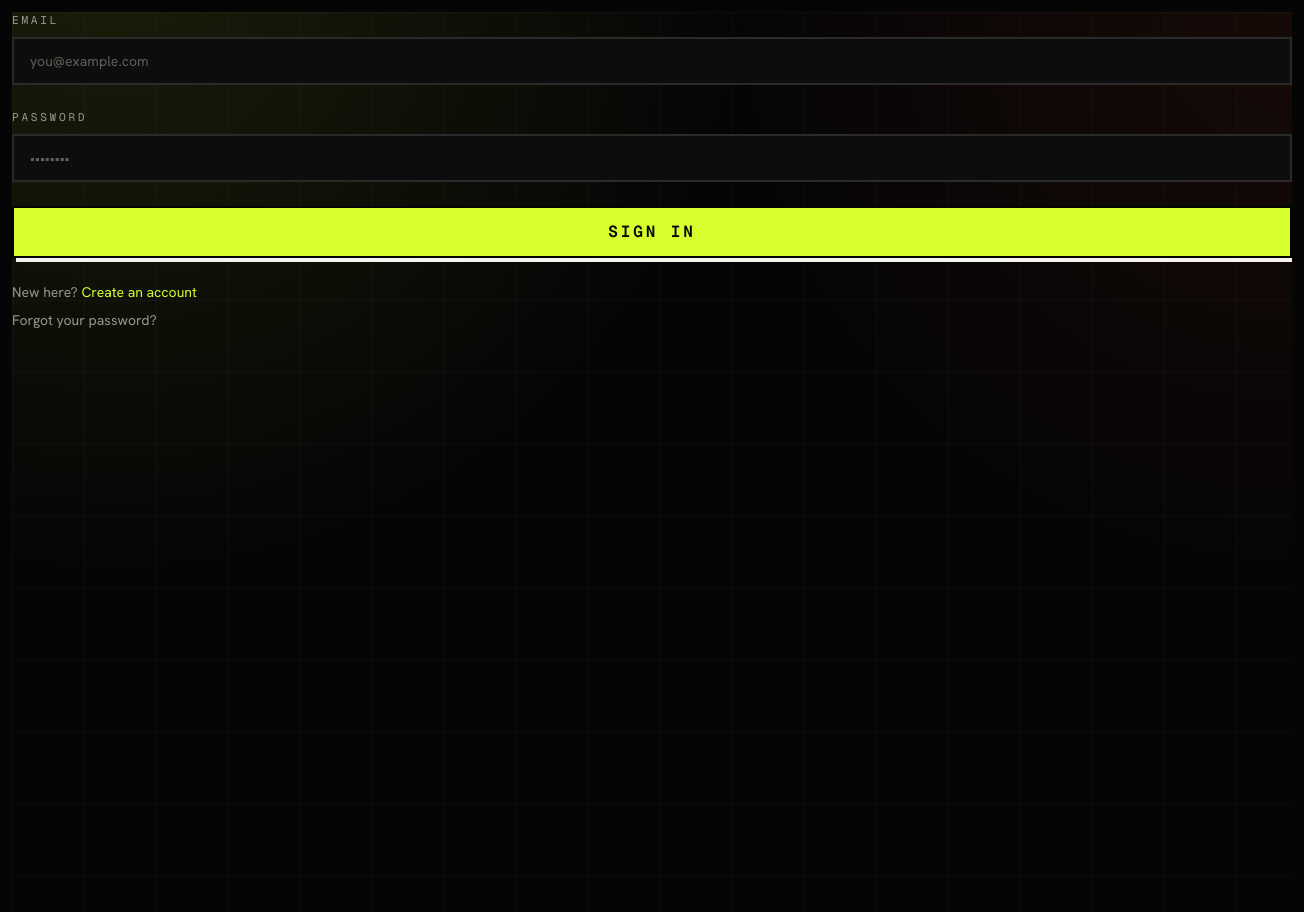
AuthForm (sign-in) › surfaces an accessible error on failure
Step 1. Type "a@b.com" into the field labelled "Email" → [652, 61], box [12,37,1292,85]
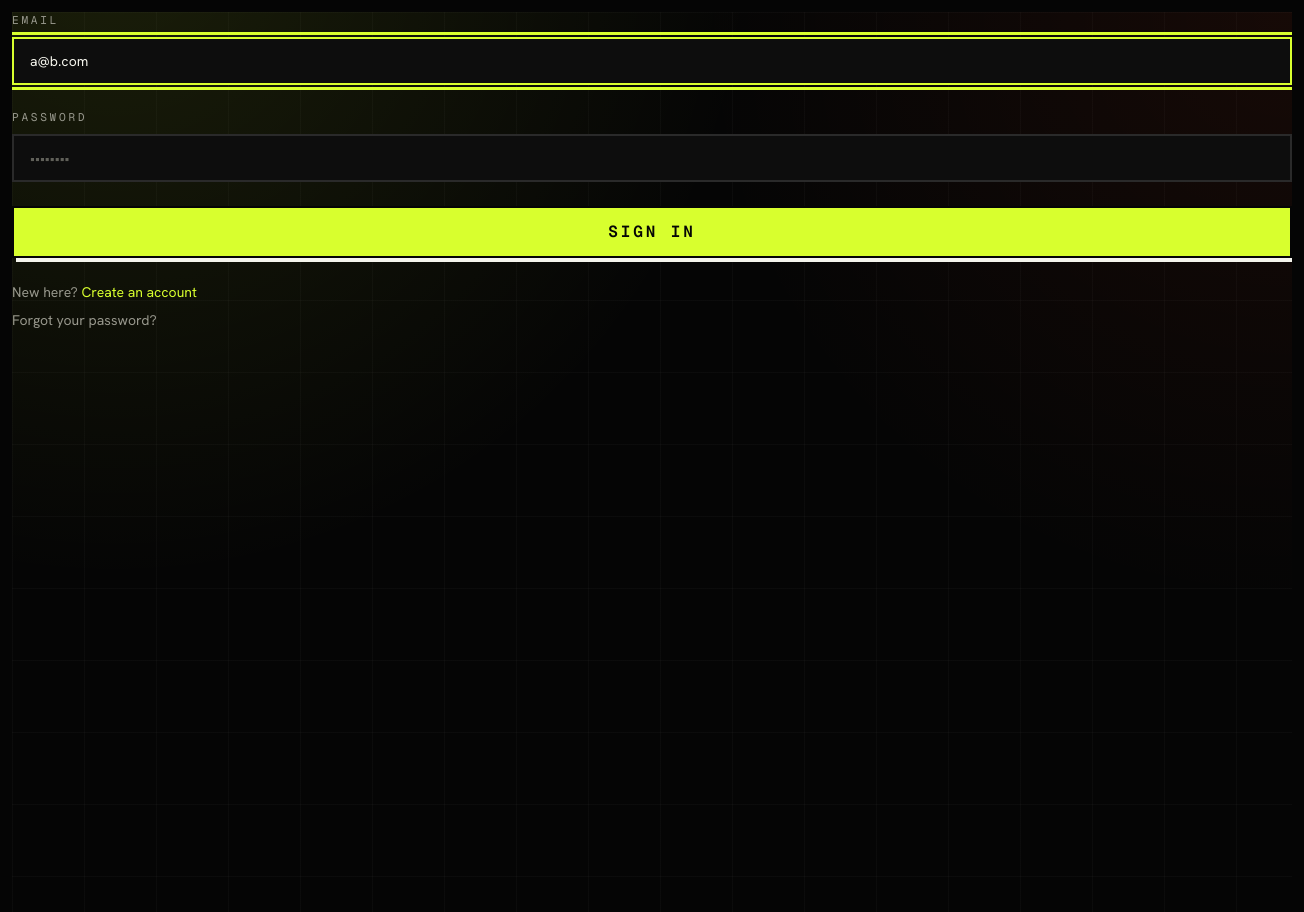
Step 2. Type "secret123" into the password field labelled "Password" → [652, 158], box [12,134,1292,182]
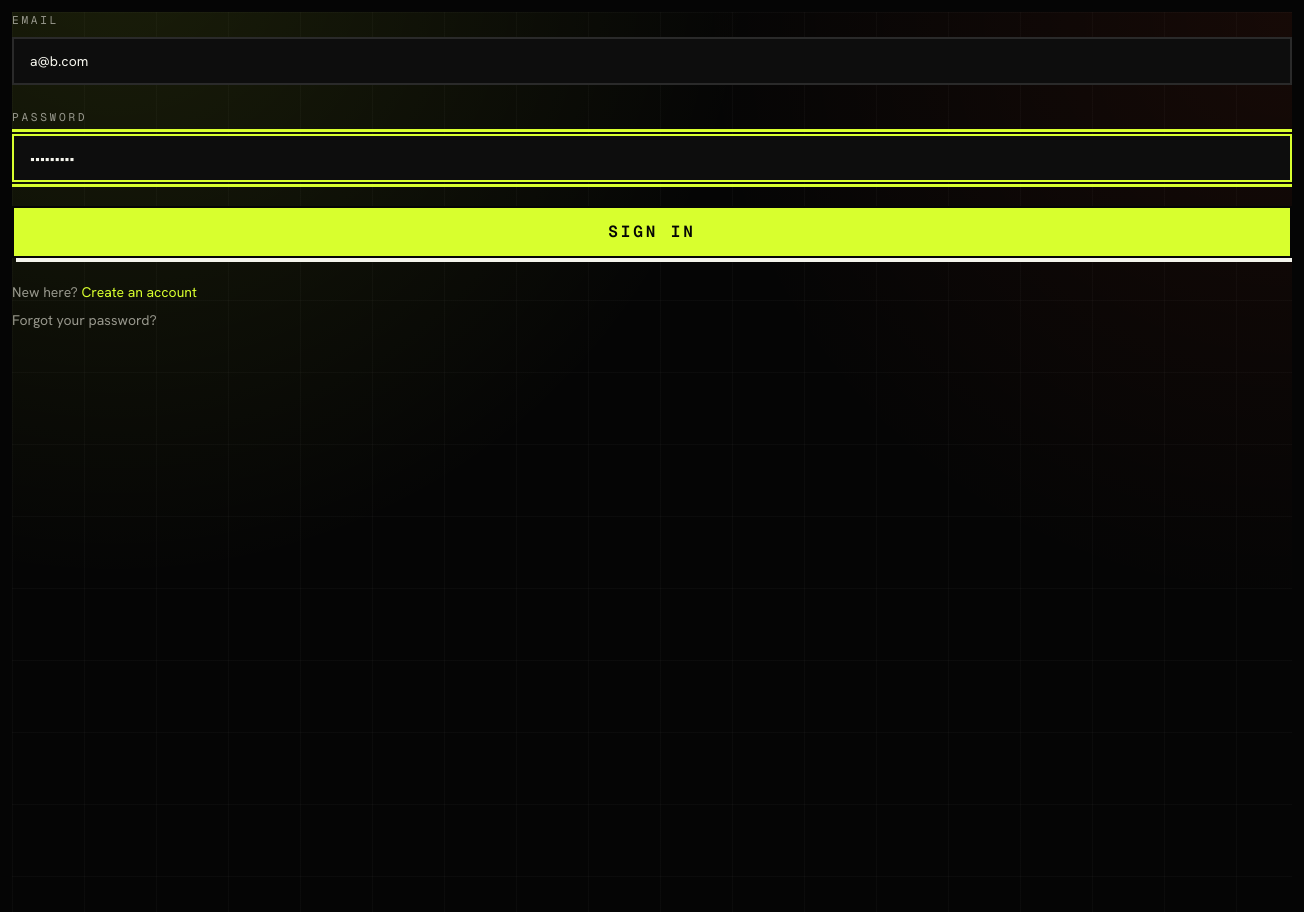
Step 3. Click the button "Sign in" → [652, 232], box [12,206,1292,258]
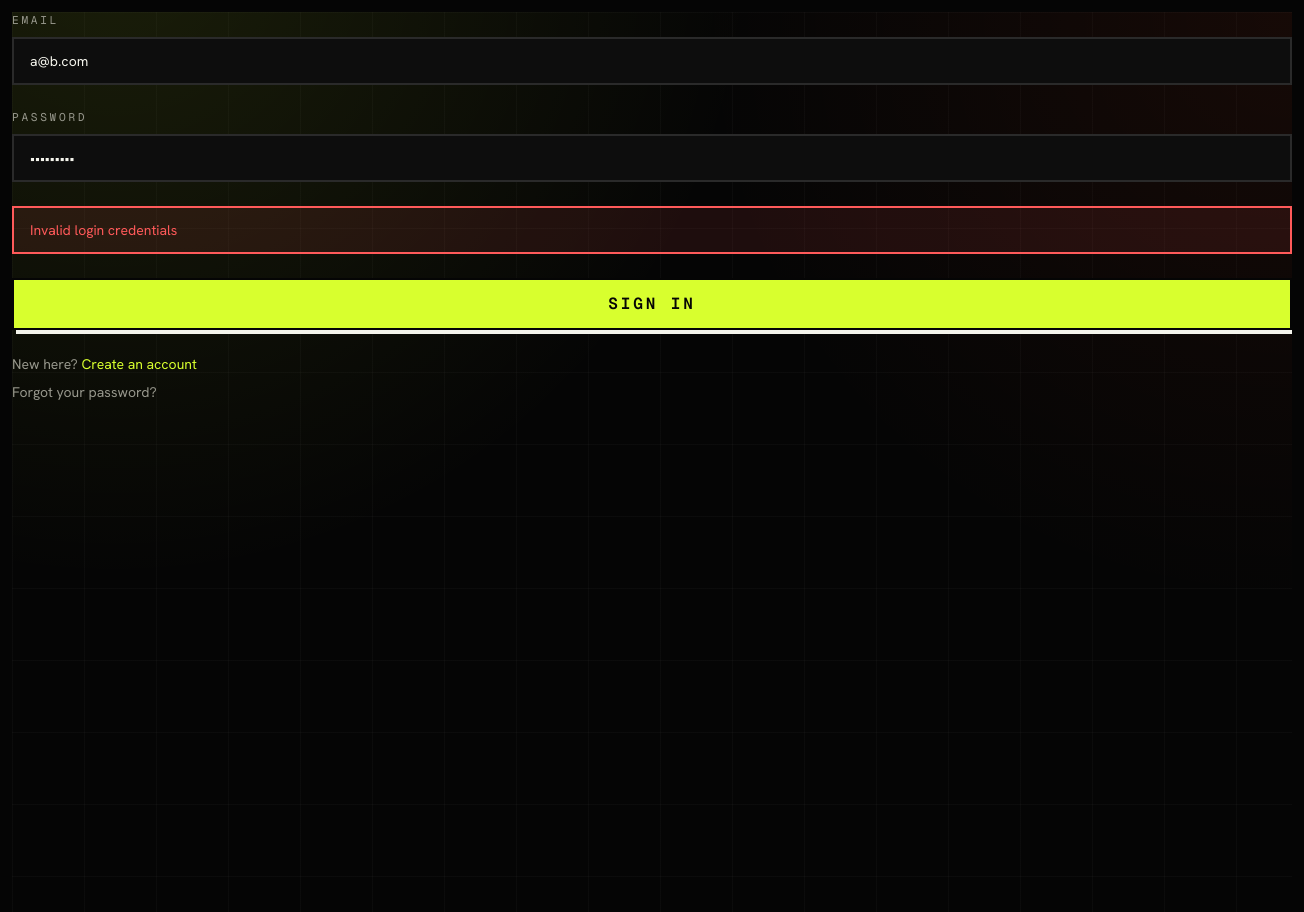
Result: the message reads "Invalid login credentials" at [30,221,177,239]
